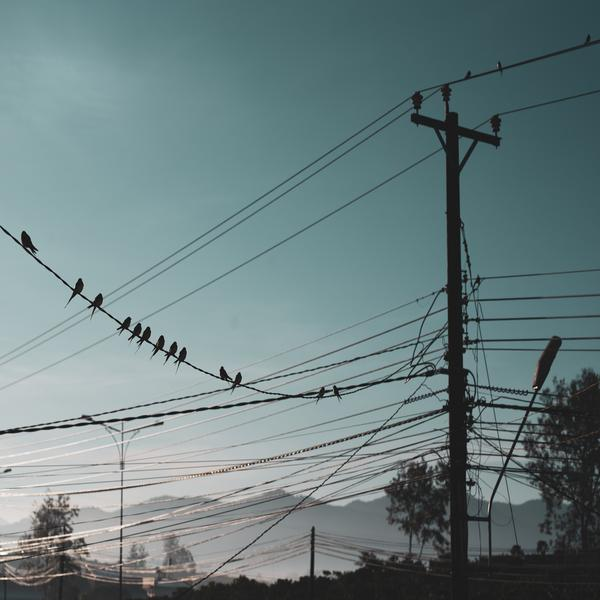utility_pole: (402, 74, 507, 205)
